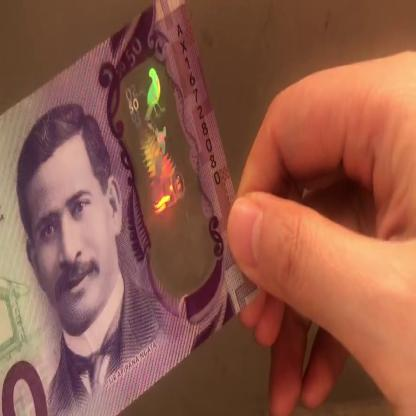50F: (124, 63, 194, 273)
